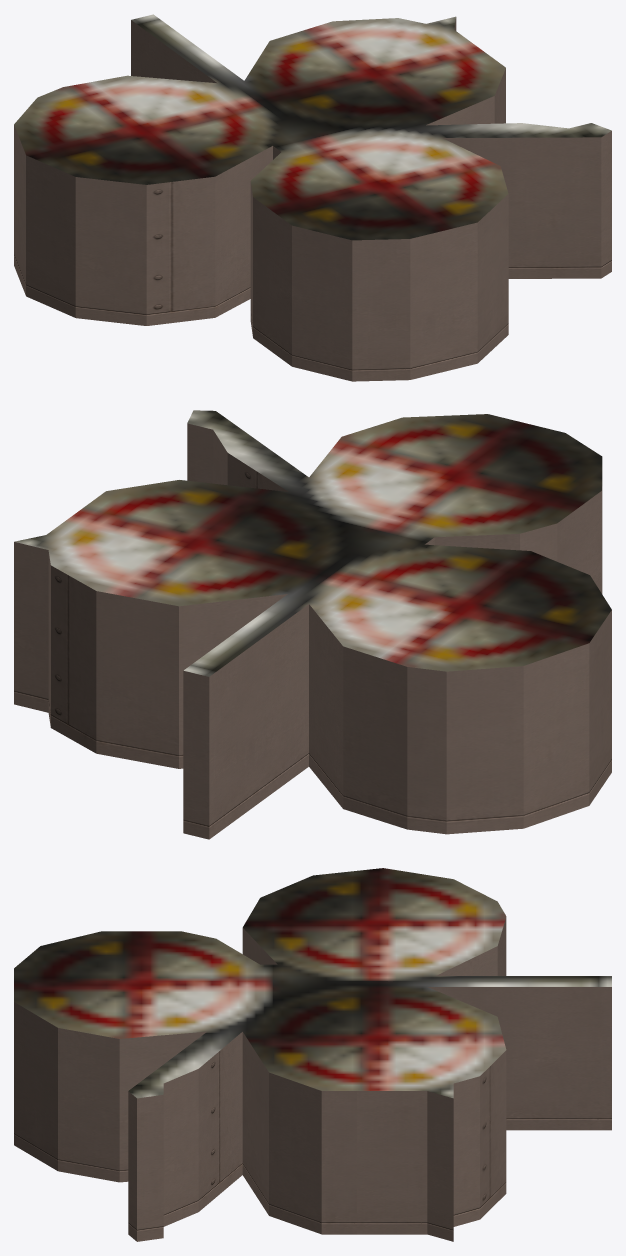
Rendered from fuel_tank_medium_07.glb.
3 views of the same model, one above another, from view 1: azimuth 30°, elevation 25°; view 2: azimuth 150°, elevation 25°; view 3: azimuth 270°, elevation 25° (orthographic). The views are drawn at different scales.
Visible parts, largest first — view 1: buildings/saxarba/fuel_tanks/fuel_tank_medium_07; view 2: buildings/saxarba/fuel_tanks/fuel_tank_medium_07; view 3: buildings/saxarba/fuel_tanks/fuel_tank_medium_07.
Part boxes in pixels (x1,y1,x2,y2): buildings/saxarba/fuel_tanks/fuel_tank_medium_07: (14, 14, 611, 381); buildings/saxarba/fuel_tanks/fuel_tank_medium_07: (14, 410, 611, 839); buildings/saxarba/fuel_tanks/fuel_tank_medium_07: (14, 868, 611, 1241).
Size of the model in its own units: 62 by 18 by 68.
